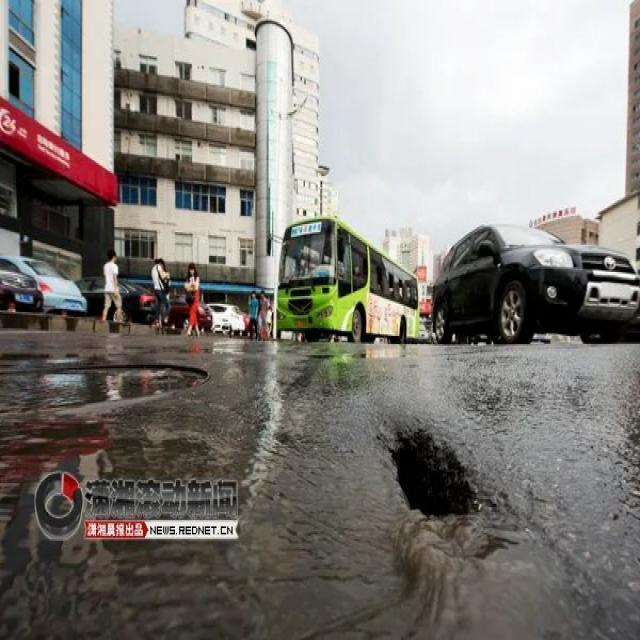Buraco: (383, 424, 507, 520)
